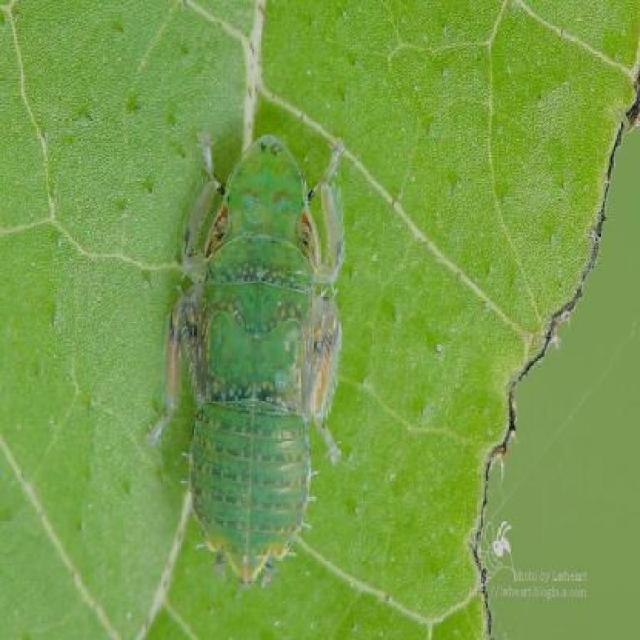green-leafhopper: (171, 132, 338, 583)
